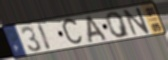3: (21, 25, 43, 53)
A: (85, 15, 109, 45)
C: (61, 17, 85, 48)
I: (36, 22, 53, 51)
N: (122, 7, 152, 38)
Q: (105, 11, 133, 39)
